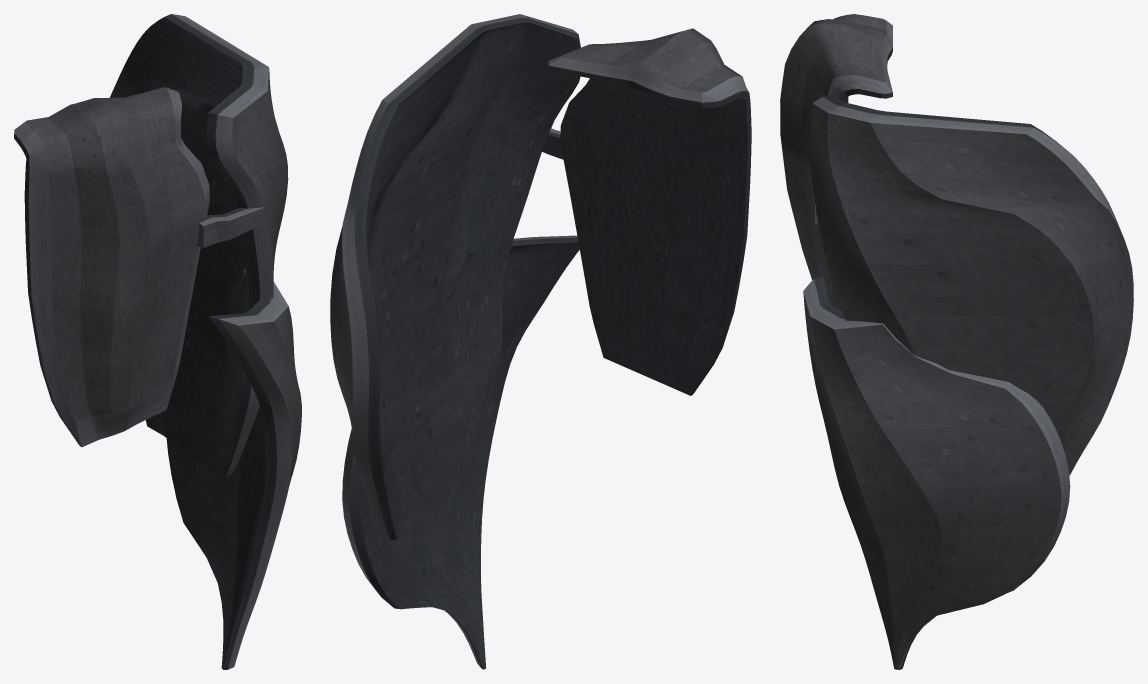
The model's file is xuantie_gauntlet.glb.
The picture shows the model from 3 angles, left to right: view 1: azimuth 30°, elevation 25°; view 2: azimuth 150°, elevation 25°; view 3: azimuth 270°, elevation 25°; orthographic projection. The views are drawn at different scales.
Visible parts, largest first — view 1: 手背至拳峰的折甲, 窄版外侧护甲, 修长后掠翼, 翼根短扣; view 2: 窄版外侧护甲, 手背至拳峰的折甲, 修长后掠翼; view 3: 窄版外侧护甲, 修长后掠翼, 手背至拳峰的折甲.
Boxes of the visible parts, x1=… form: 手背至拳峰的折甲: x1=14, y1=87, x2=209, y2=447; 窄版外侧护甲: x1=109, y1=14, x2=288, y2=477; 修长后掠翼: x1=166, y1=269, x2=301, y2=669; 翼根短扣: x1=197, y1=207, x2=264, y2=247; 窄版外侧护甲: x1=330, y1=14, x2=580, y2=540; 手背至拳峰的折甲: x1=548, y1=28, x2=751, y2=395; 修长后掠翼: x1=342, y1=235, x2=579, y2=669; 窄版外侧护甲: x1=810, y1=94, x2=1133, y2=475; 修长后掠翼: x1=803, y1=277, x2=1070, y2=669; 手背至拳峰的折甲: x1=780, y1=14, x2=892, y2=310.
Bounding box in the file's own units: 10.1 × 20.59 × 11.44.
Materials: 3 (3 with a texture image).
